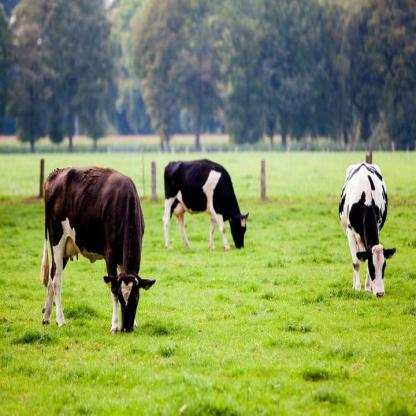cow: (45, 167, 154, 333), (166, 158, 247, 248), (342, 164, 396, 296)
